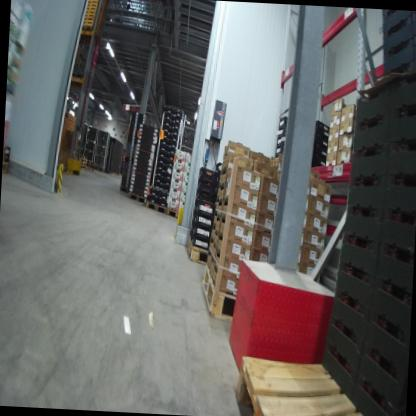pallet: (228, 344, 385, 416), (199, 260, 252, 325), (186, 231, 212, 266), (144, 199, 168, 214), (1, 154, 13, 179), (129, 190, 149, 204), (166, 207, 183, 217), (78, 164, 86, 171), (78, 153, 87, 157), (79, 157, 87, 161), (79, 161, 87, 165)
